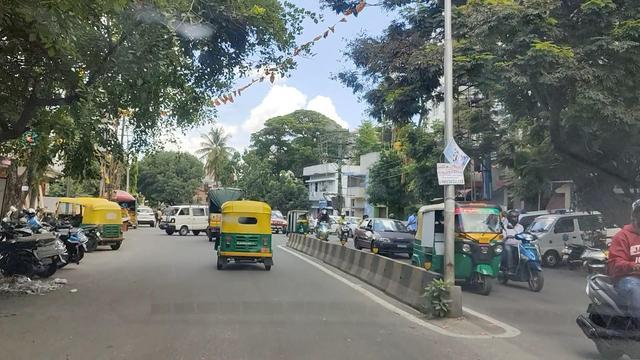LMV: (62, 194, 120, 250), (220, 199, 271, 259)
